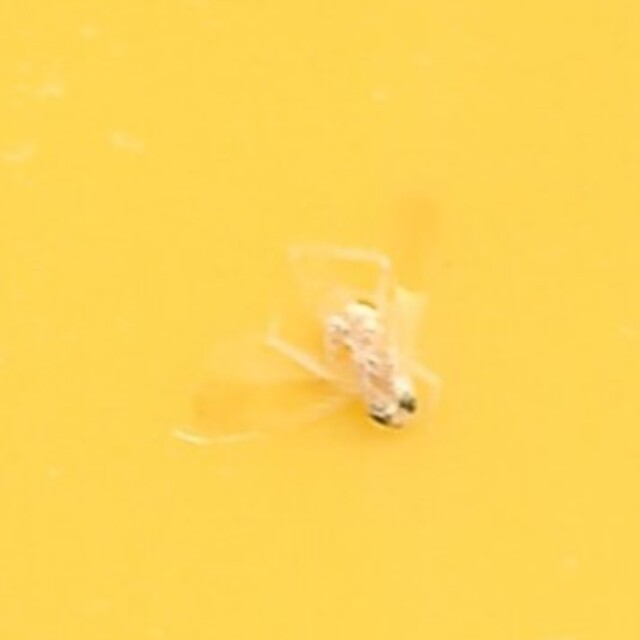Hemiptera: (181, 195, 459, 445)
